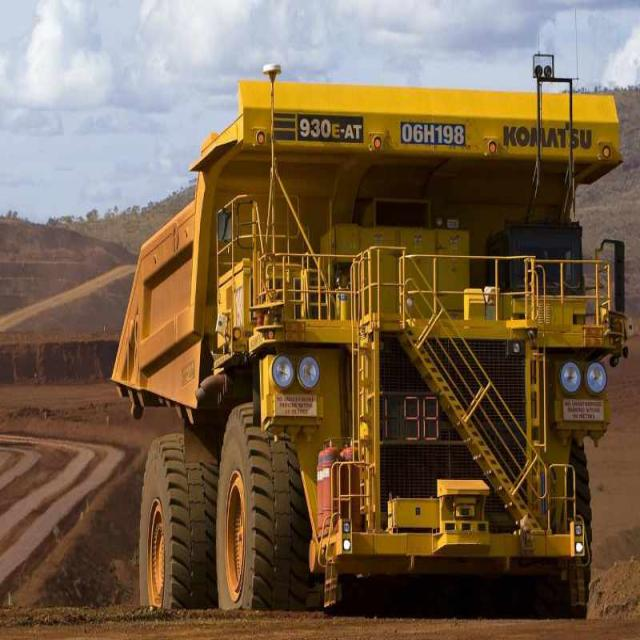dump_truck: (77, 38, 639, 616)
